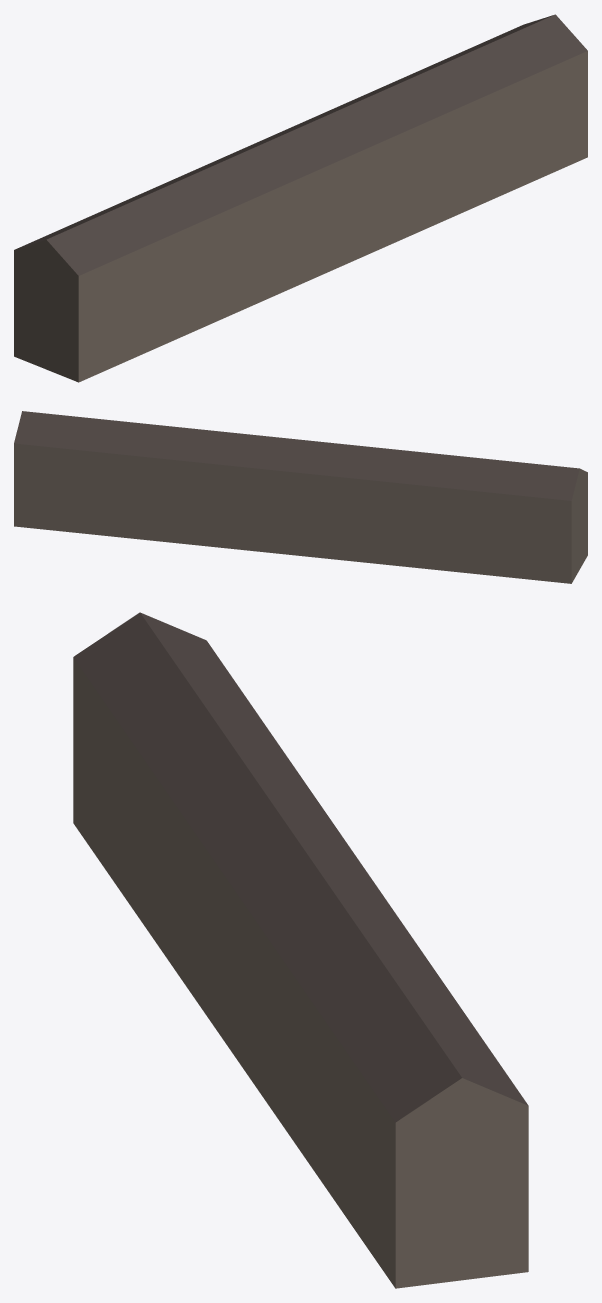
3 views of the same model, one above another, from view 1: azimuth 30°, elevation 25°; view 2: azimuth 150°, elevation 25°; view 3: azimuth 270°, elevation 25° (orthographic). The views are drawn at different scales.
Visible parts, largest first — view 1: HP-w859424174; view 2: HP-w859424174; view 3: HP-w859424174.
Part boxes in pixels (x1,y1,x2,y2): HP-w859424174: (14,14,587,382); HP-w859424174: (14,411,587,583); HP-w859424174: (73,612,528,1288).
Size of the model in its own units: 56.09 by 10.98 by 22.4.
